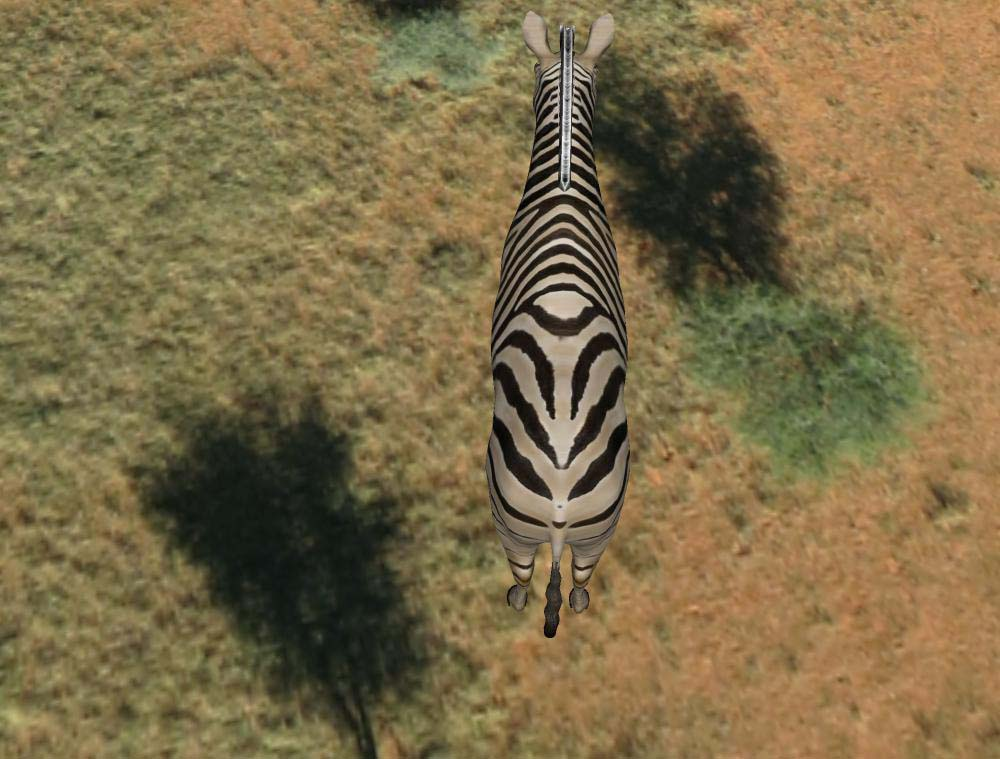zebra: (485, 1, 628, 643)
